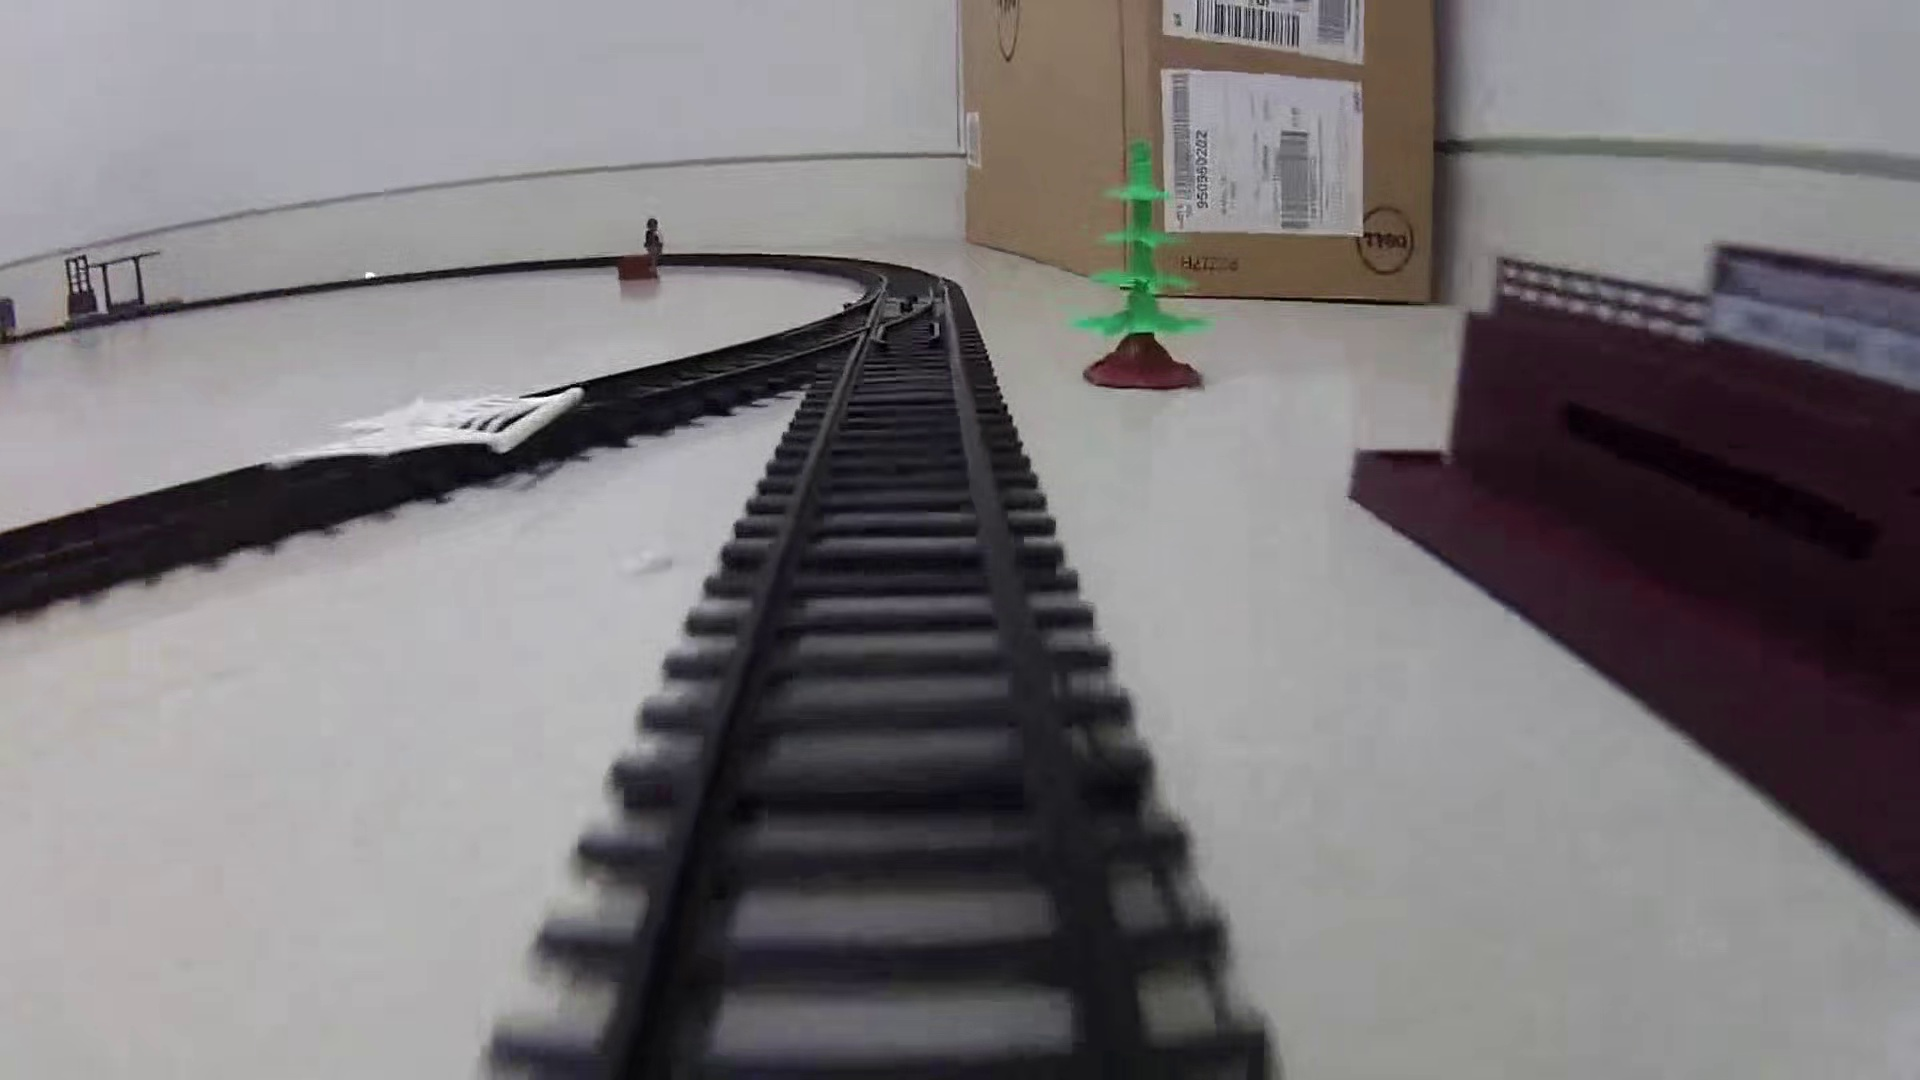box: (613, 253, 662, 283)
people: (639, 215, 665, 263)
tree: (1082, 136, 1209, 394)
web: (262, 380, 587, 467)
